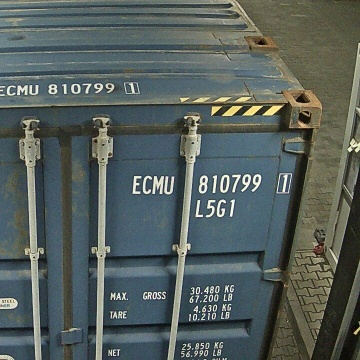serial_id: (132, 174, 287, 194)
